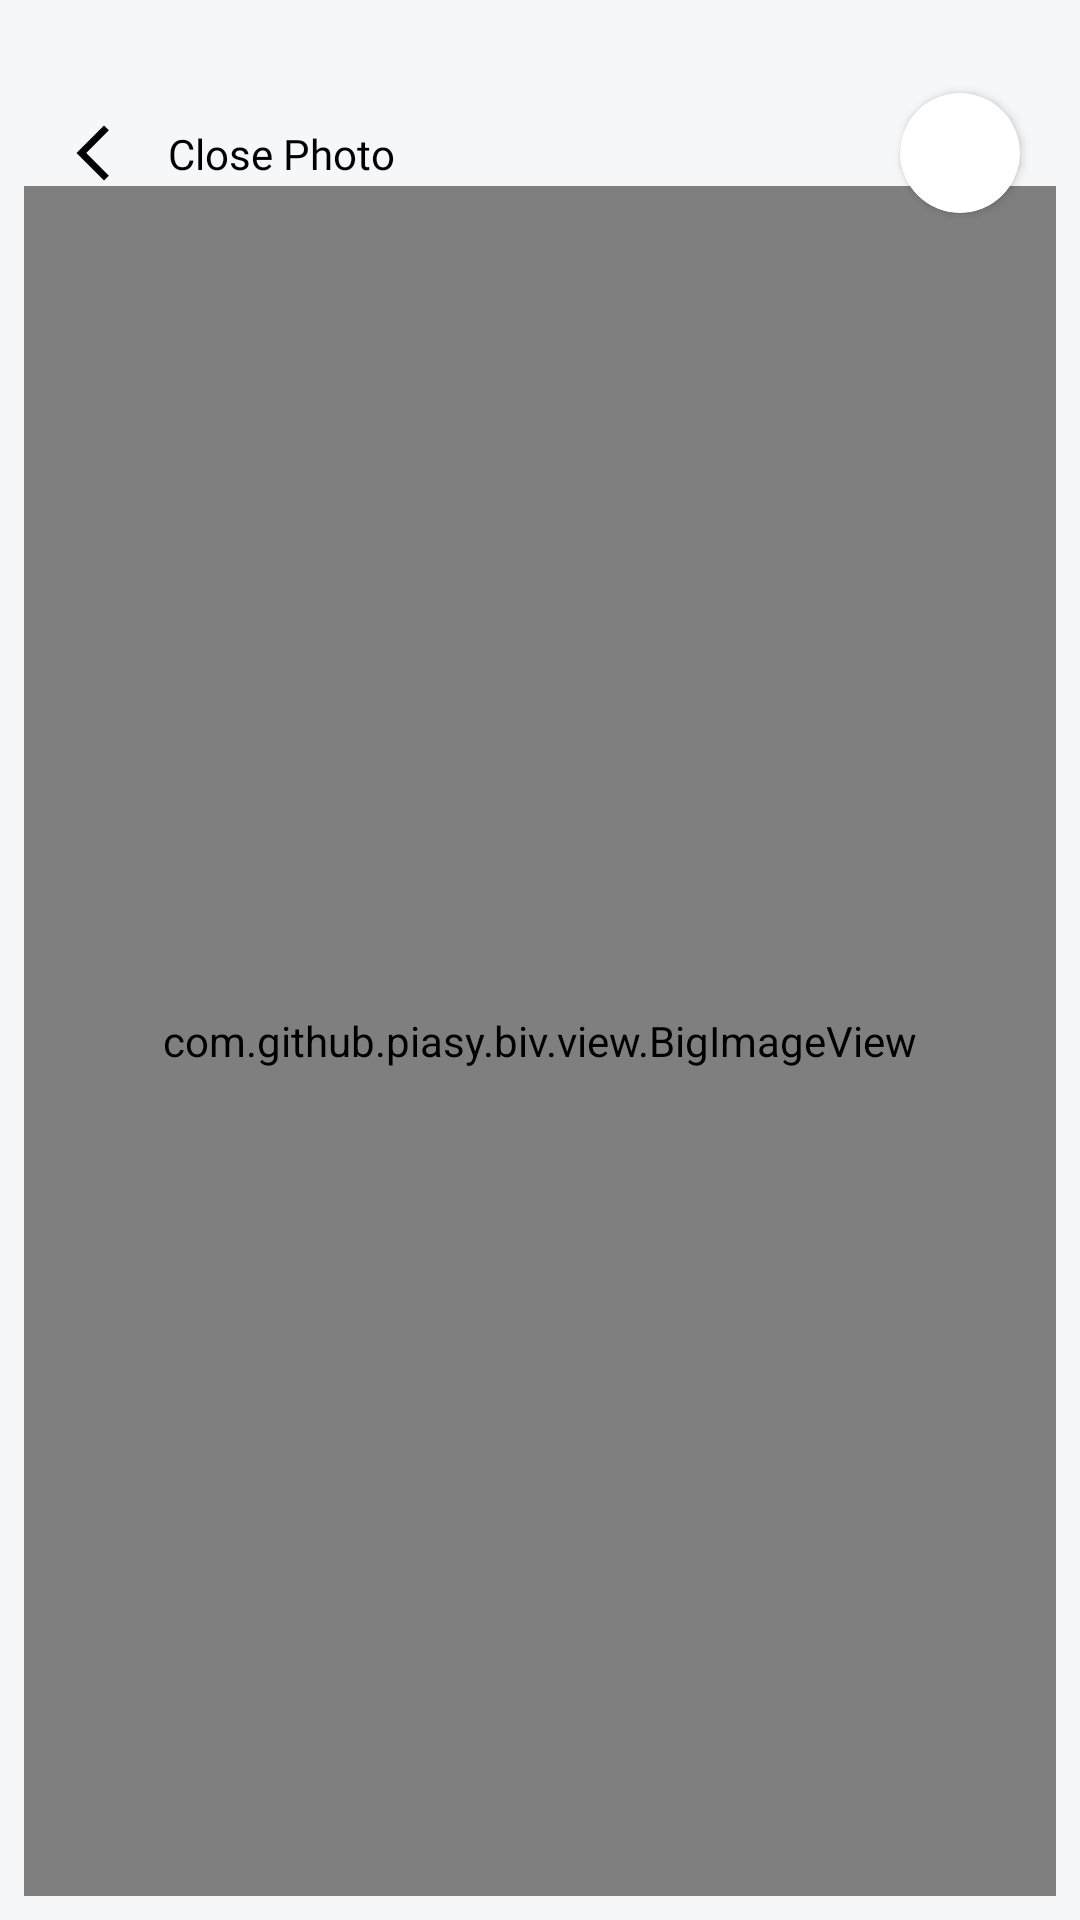

Named icons in this screenshot (1080px x 1920px) and their centers, point (x, y):
back arrow: point (92, 153)
